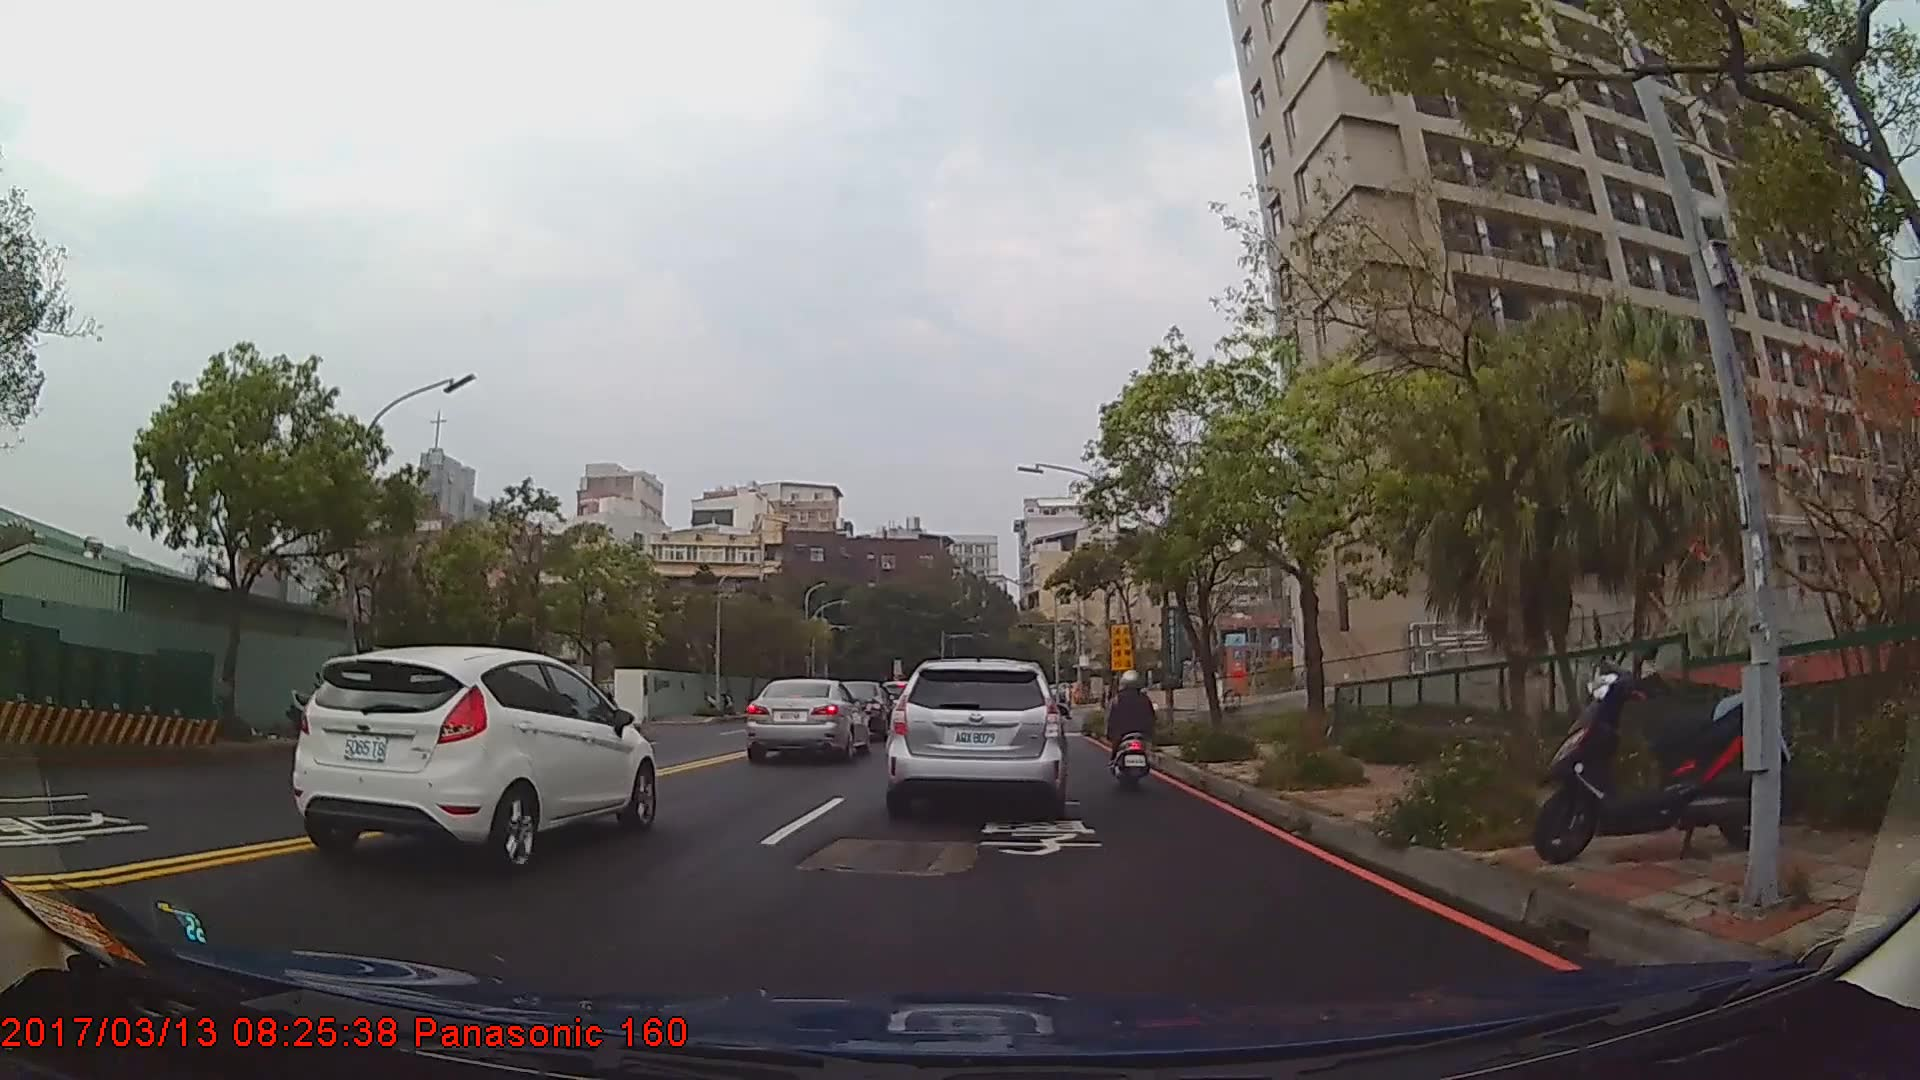rider: (1109, 669, 1161, 795)
vehicle: (292, 645, 657, 876), (887, 658, 1063, 816), (744, 676, 869, 763)
